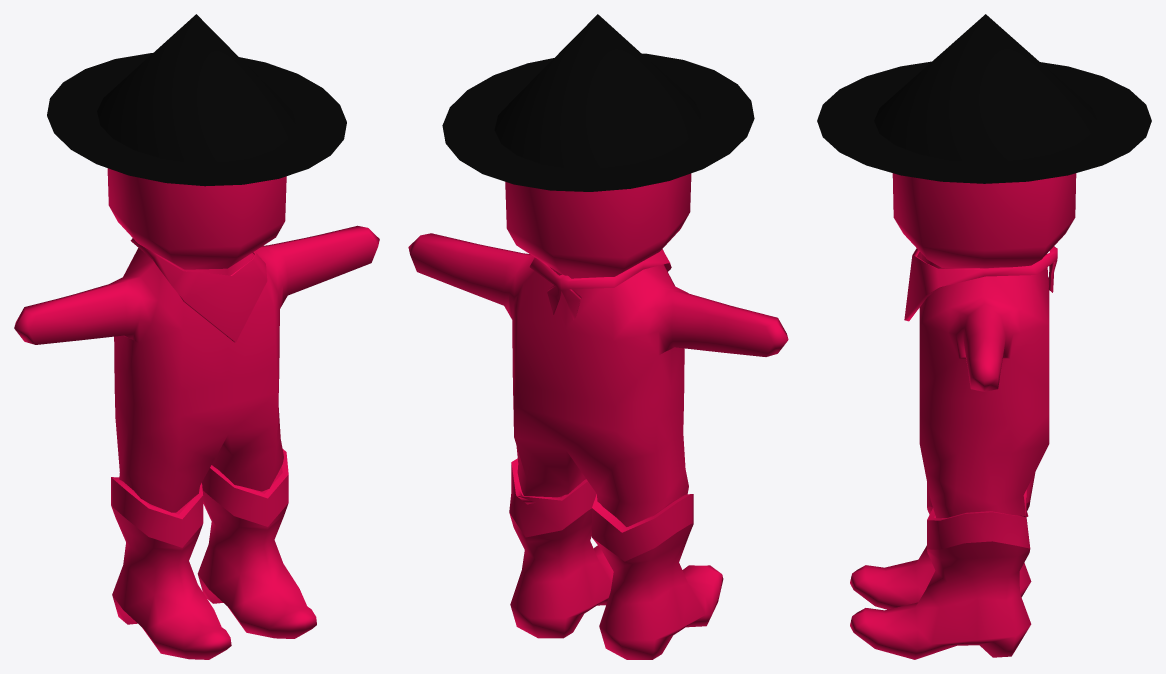
Rendered from Cowboy01.fbx.
3 renders of one model, left to right at view 1: azimuth 30°, elevation 25°; view 2: azimuth 150°, elevation 25°; view 3: azimuth 270°, elevation 25°, orthographic. The views are drawn at different scales.
Parts seen in each view (by area): view 1: polySurface4; view 2: polySurface4; view 3: polySurface4.
Part boxes in pixels (x1,y1,x2,y2): polySurface4: (14, 14, 379, 659); polySurface4: (408, 14, 788, 659); polySurface4: (817, 14, 1151, 659).
Bounding box in the file's own units: 106 × 168 × 82.38.
